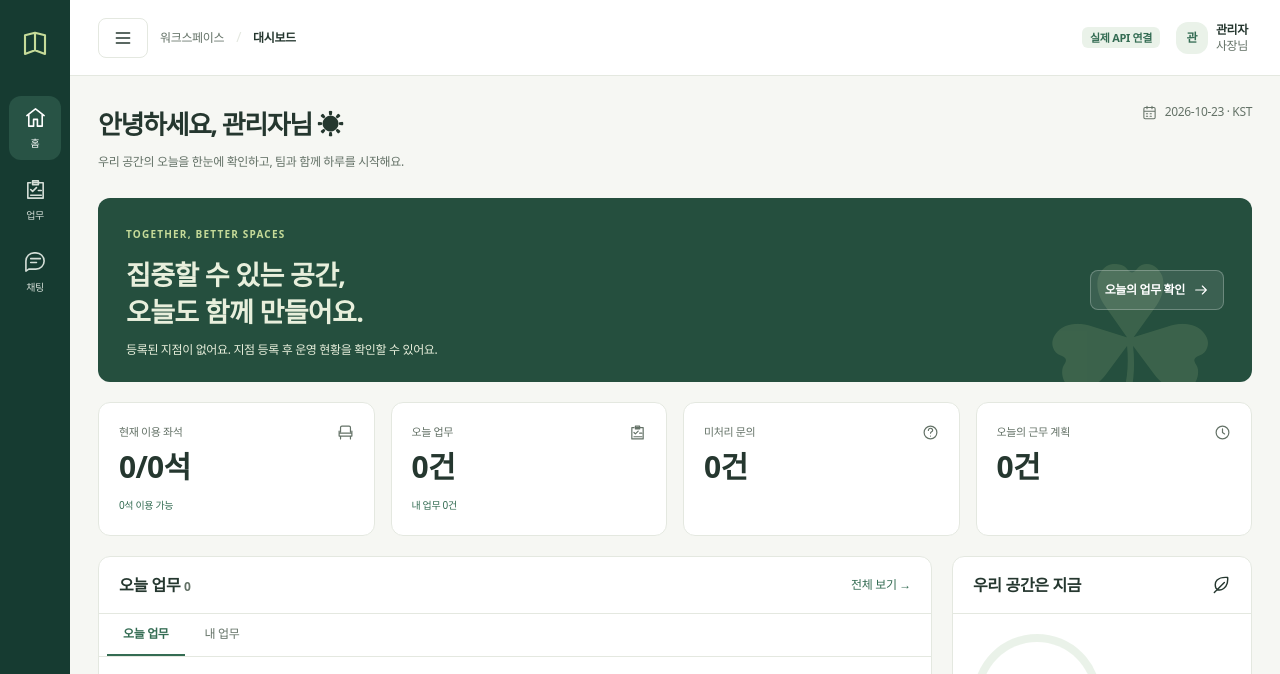
it: keeps idle reads quiet and refreshes the active menu only on request
The width and height of the screenshot is (1280, 674).
Expected: the text "0/0석" is shown, [119,446,190,487]
Expected: the text "마지막 조회" is not shown
Click the link named "OpenStudy 홈" at x=35, y=44, box [20,29,50,59]
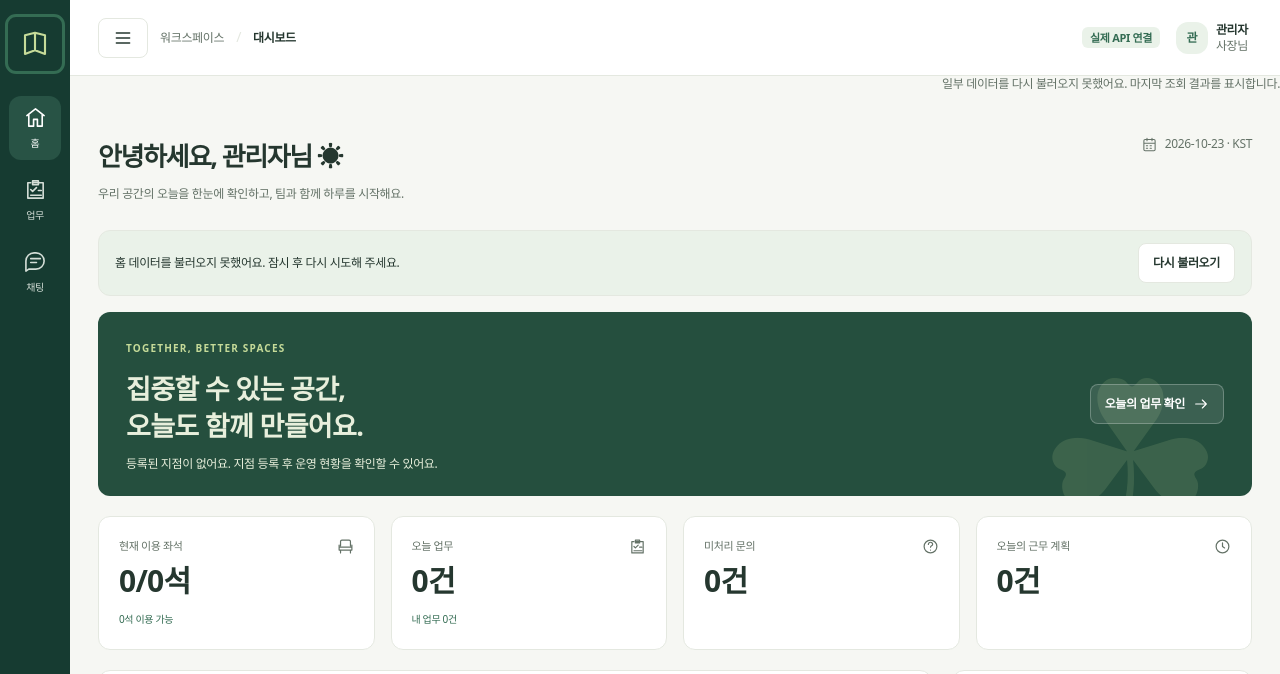
Expected: the text "0/0석" is shown, [119,560,190,601]
Result: the text "일부 데이터를 다시 불러오지 못했어요. 마지막 조회 결과를 표시합니다." is shown at [942,76,1279,92]
Click the button named "메뉴 열기" at x=123, y=38, box [98,18,148,58]
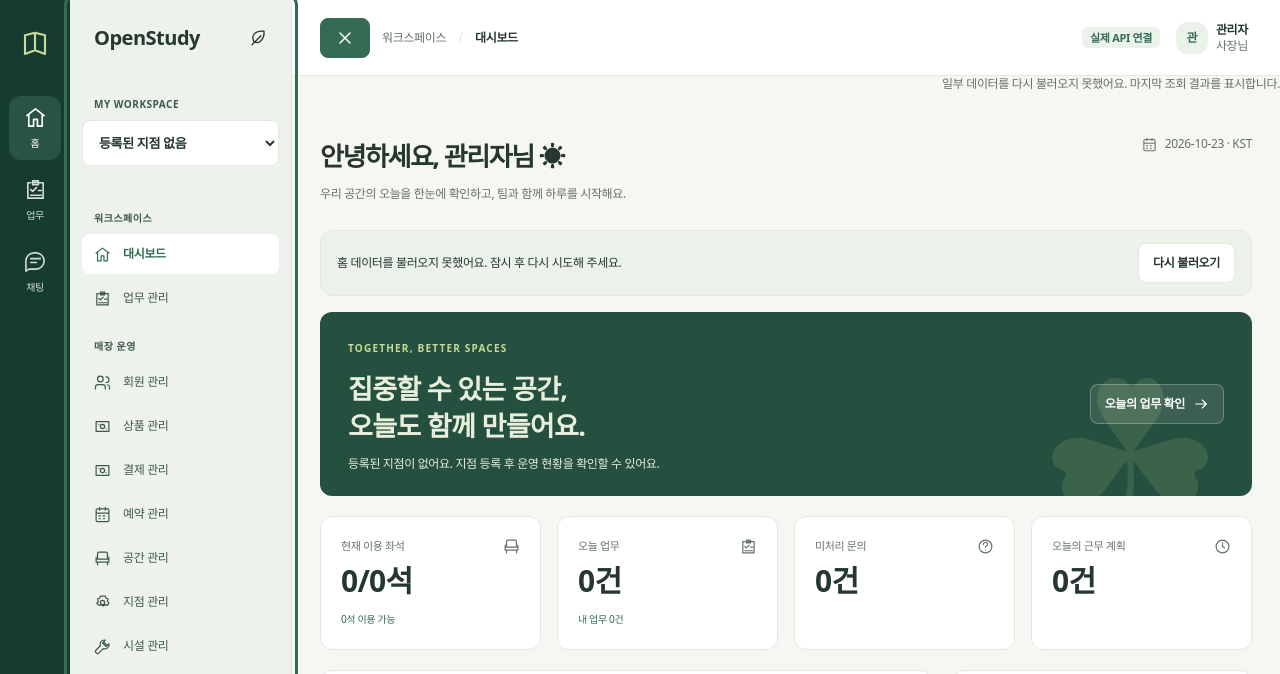
Click the link "대시보드" at x=180, y=254, box [82,234,279,274]
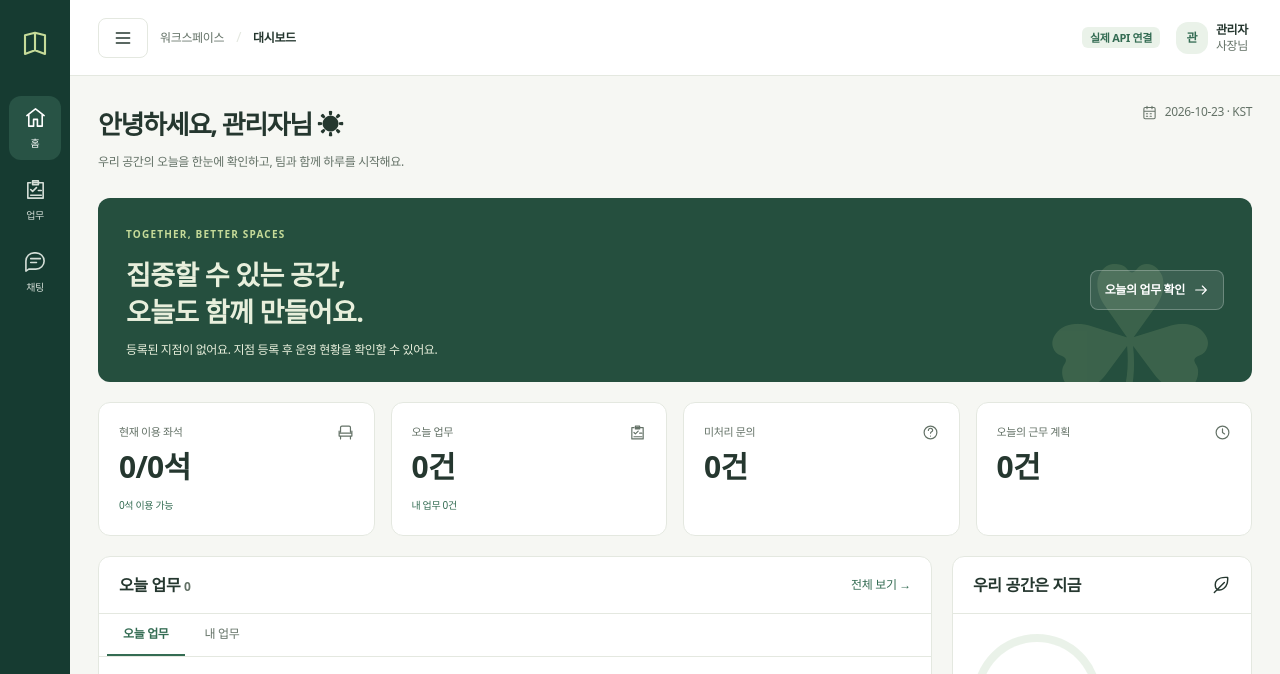
Result: the text "마지막 조회 결과를 표시합니다" is gone
